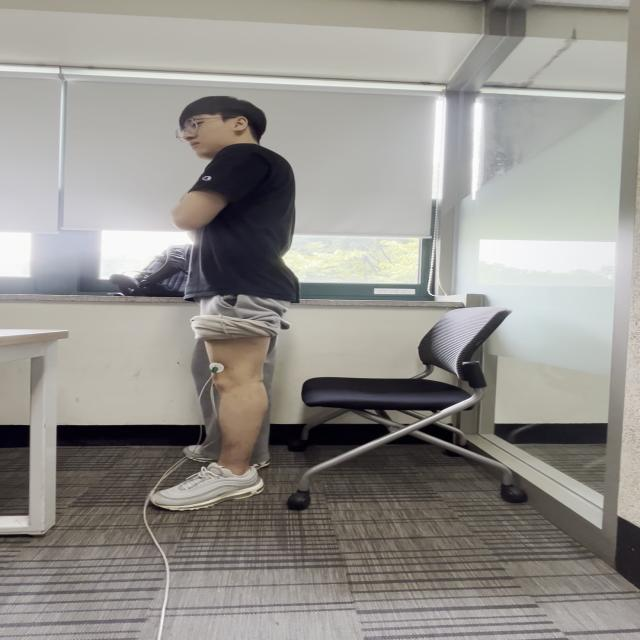stand: (184, 158, 293, 407), (164, 296, 286, 514)
